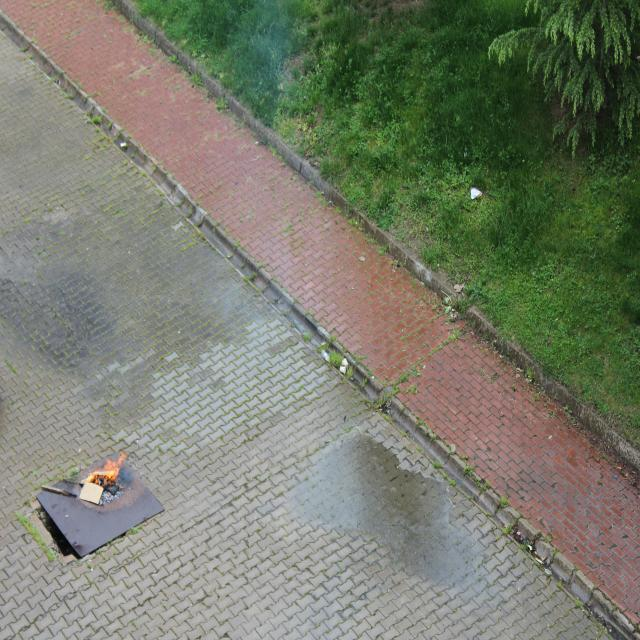fire: (83, 438, 135, 496)
